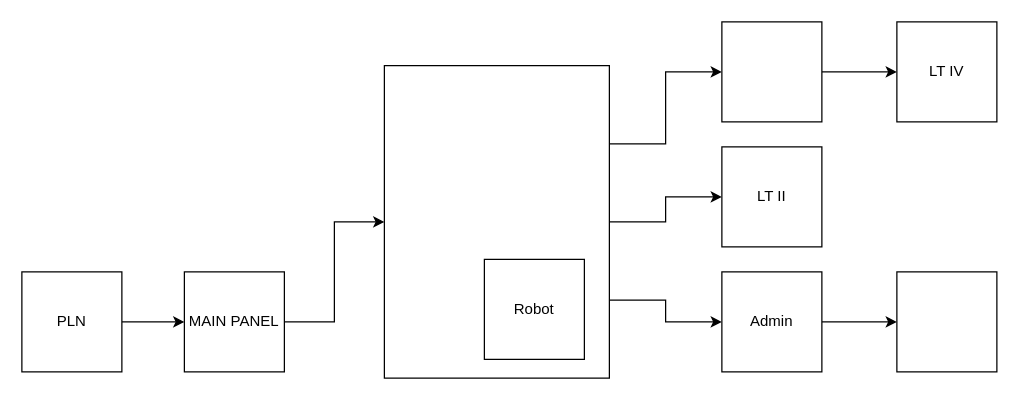
The diagram is 1019 pixels wide and 400 high, and some of its shapes have lost their labels. The box of each missing label's shape, as (x1, y1, x2, y2) in pixels:
Bubut: (896, 271, 997, 372)
DISTRIBUTION: (383, 64, 609, 378)
LT III: (721, 21, 822, 122)
